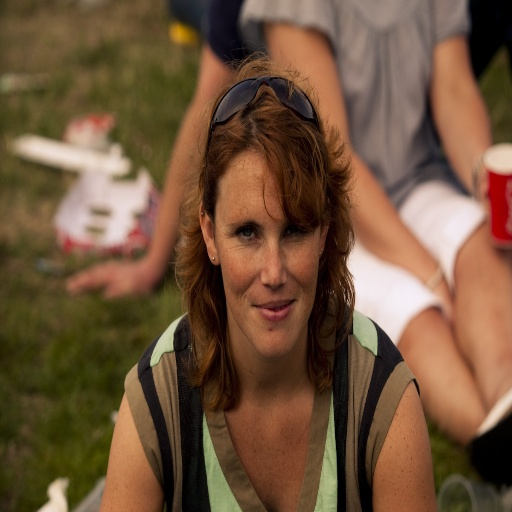hand: (66, 258, 144, 299), (432, 272, 456, 327), (477, 168, 493, 213)
